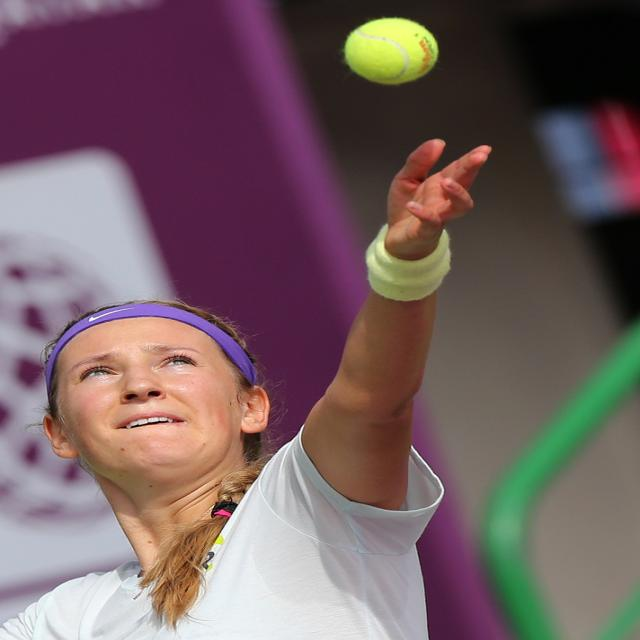Tennis ball: (343, 19, 437, 83)
